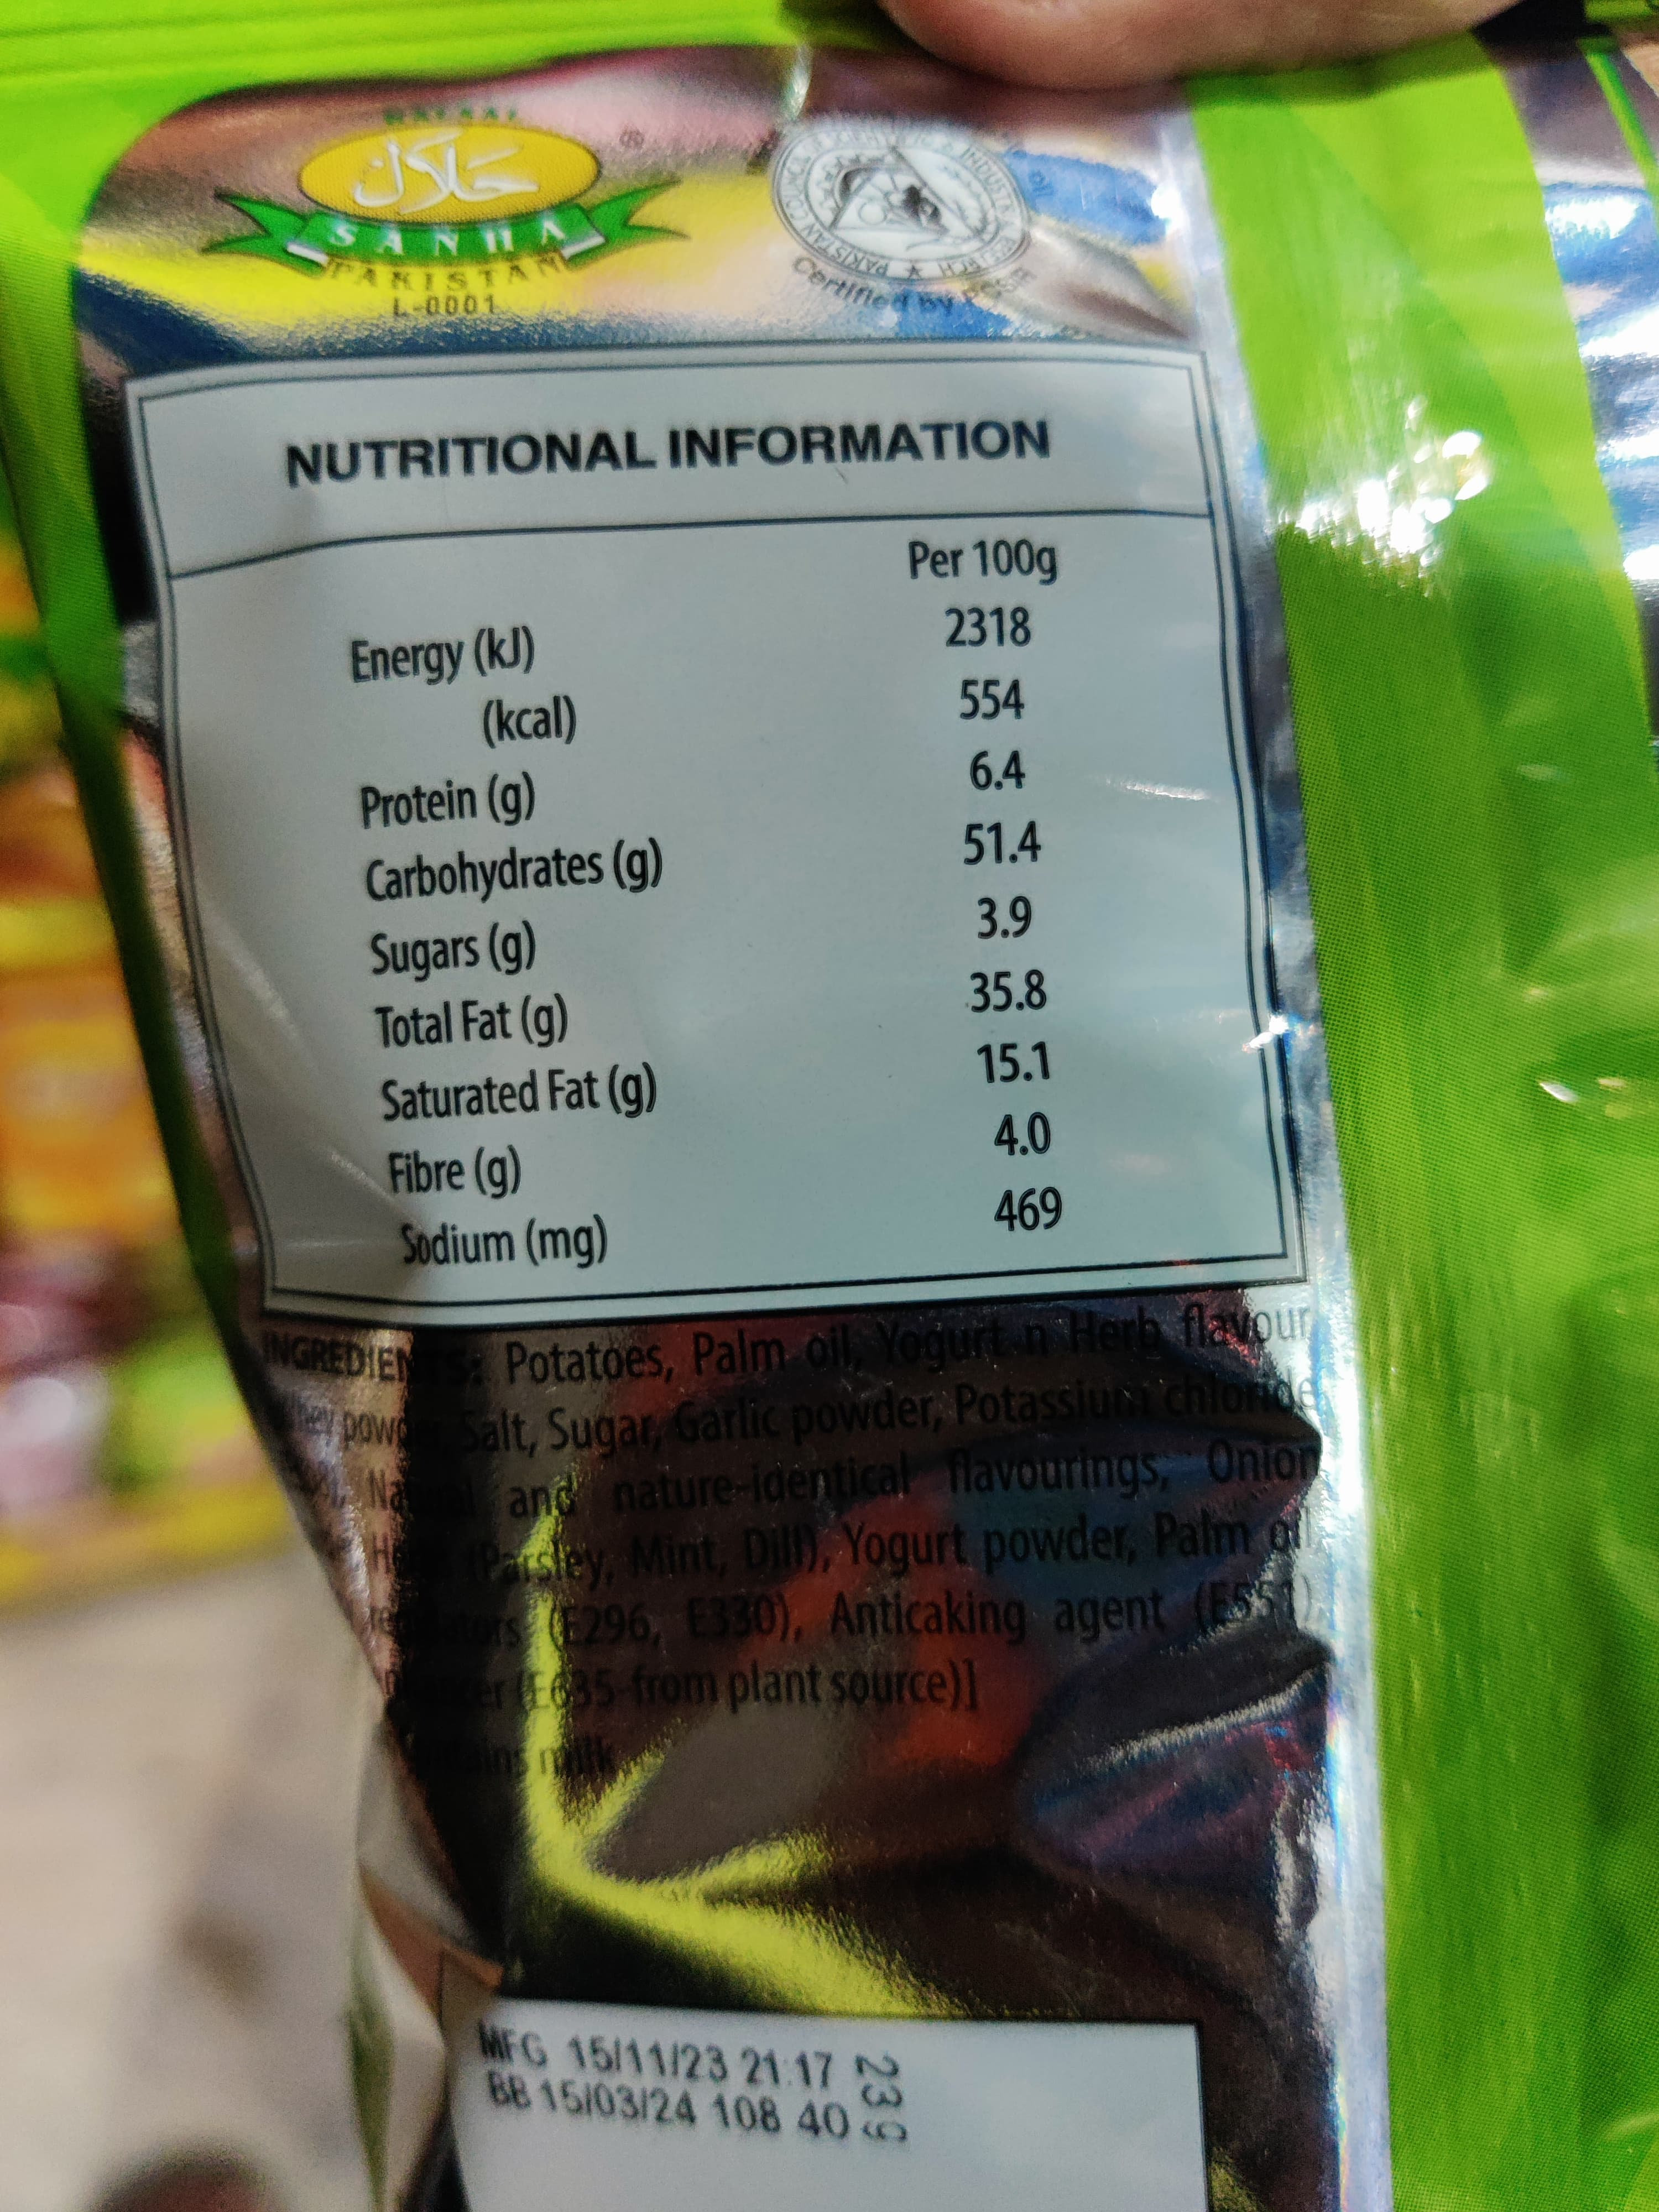table: (106, 343, 1319, 1331)
